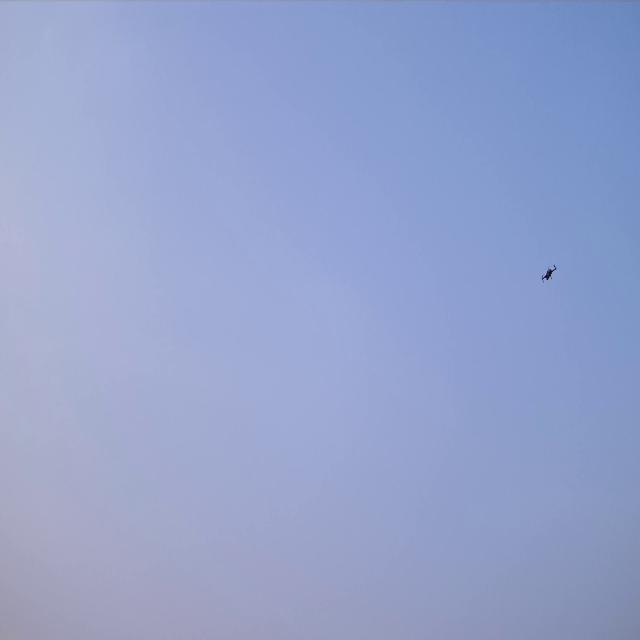UAV: (542, 265, 556, 281)
